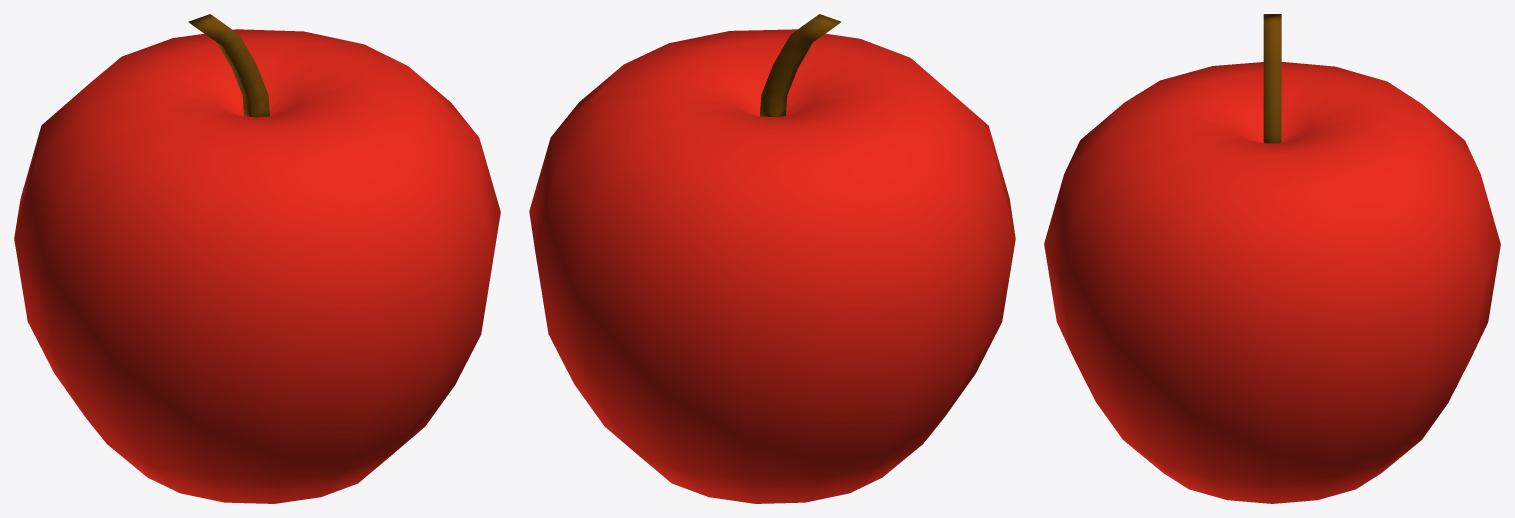
The model's file is apple_camera.fbx.
The picture shows the model from 3 angles, left to right: view 1: azimuth 30°, elevation 25°; view 2: azimuth 150°, elevation 25°; view 3: azimuth 270°, elevation 25°; orthographic projection. The views are drawn at different scales.
Parts seen in each view (by area): view 1: Plane; view 2: Plane; view 3: Plane.
Boxes of the visible parts, left/top/right/bottom form: Plane: left=14, top=14, right=500, bottom=503; Plane: left=529, top=14, right=1015, bottom=503; Plane: left=1044, top=14, right=1500, bottom=503.
Bounding box in the file's own units: 127 × 128 × 127.
